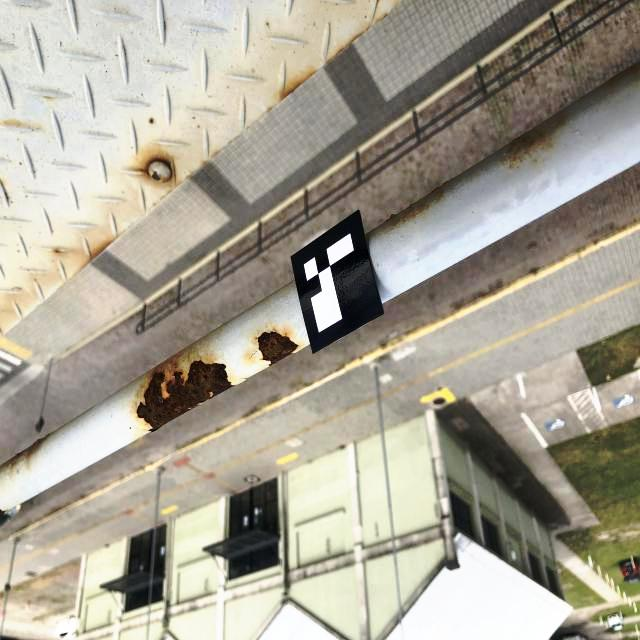Corrosion: (136, 361, 232, 432), (257, 332, 298, 365), (510, 132, 540, 166), (142, 155, 170, 184)
